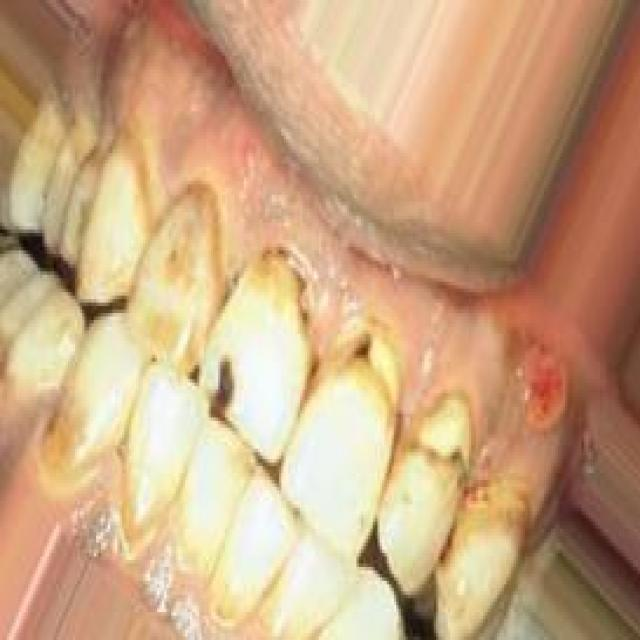caries: (325, 312, 406, 417), (410, 385, 478, 487), (269, 242, 320, 341), (204, 345, 248, 426)
